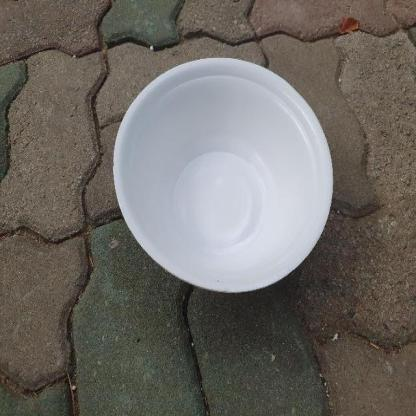Glass Cup: (113, 56, 333, 294), (113, 57, 333, 292)
